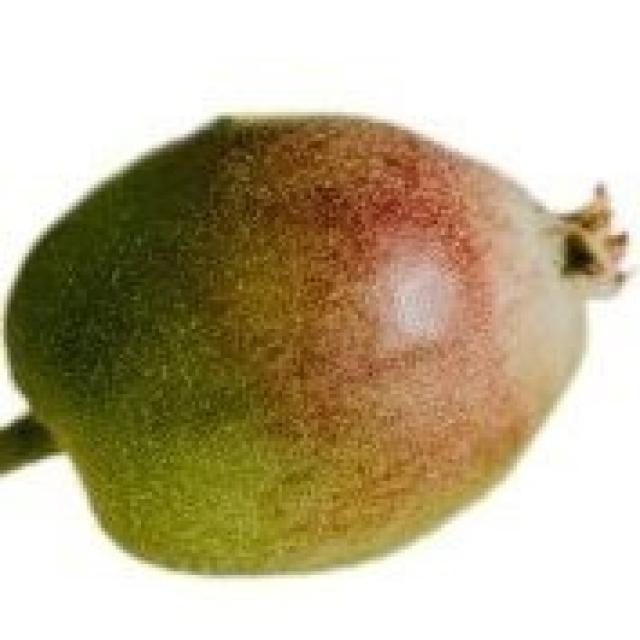20-_ripeness: (0, 0, 631, 586)
